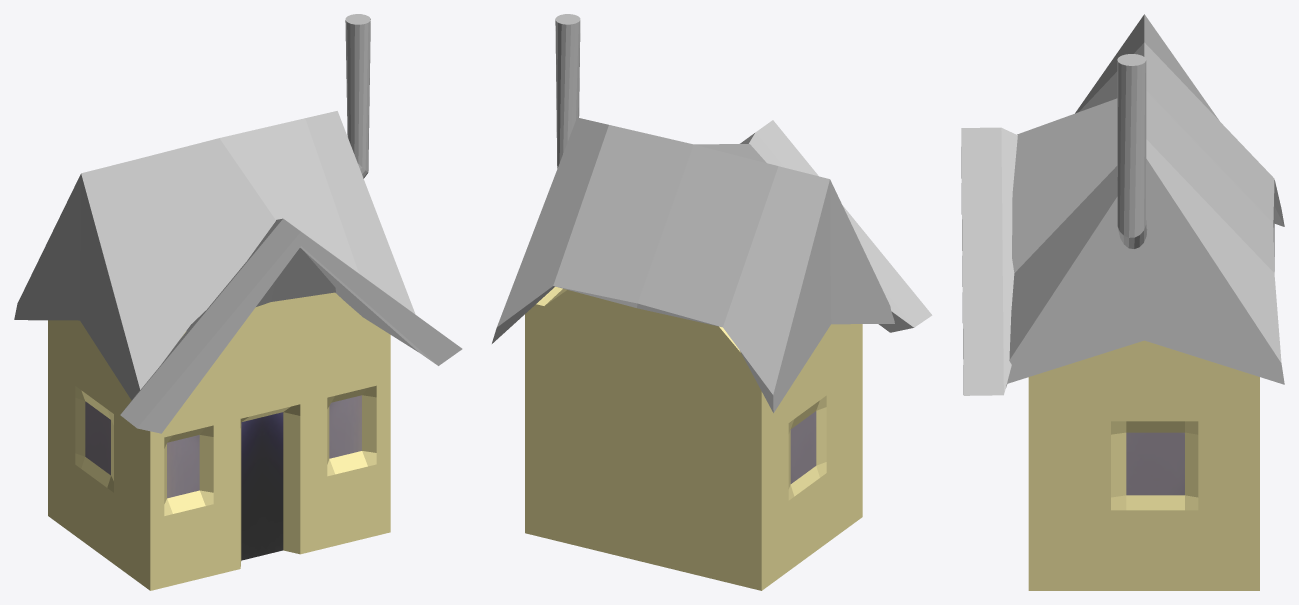
File: salvar.fbx
3 renders of one model, left to right at view 1: azimuth 30°, elevation 25°; view 2: azimuth 150°, elevation 25°; view 3: azimuth 270°, elevation 25°, orthographic. The views are drawn at different scales.
Visible parts, largest first — view 1: Cube.003, Cube.005, Cube.004, Cylinder; view 2: Cube.003, Cube.005, Cube.004, Cylinder; view 3: Cube.005, Cube.003, Cube.004, Cylinder.
Part boxes in pixels (bbox=[...]): Cube.003: bbox=[48, 292, 390, 590]; Cube.005: bbox=[14, 111, 415, 400]; Cube.004: bbox=[120, 218, 462, 433]; Cylinder: bbox=[345, 14, 370, 178]; Cube.003: bbox=[525, 286, 862, 590]; Cube.005: bbox=[492, 117, 894, 412]; Cube.004: bbox=[740, 120, 932, 332]; Cylinder: bbox=[555, 14, 580, 168]; Cube.005: bbox=[1007, 14, 1284, 384]; Cube.003: bbox=[1028, 340, 1259, 590]; Cube.004: bbox=[961, 127, 1017, 395]; Cylinder: bbox=[1117, 54, 1147, 248].
Bounding box in the file's own units: 499 × 698 × 380.
